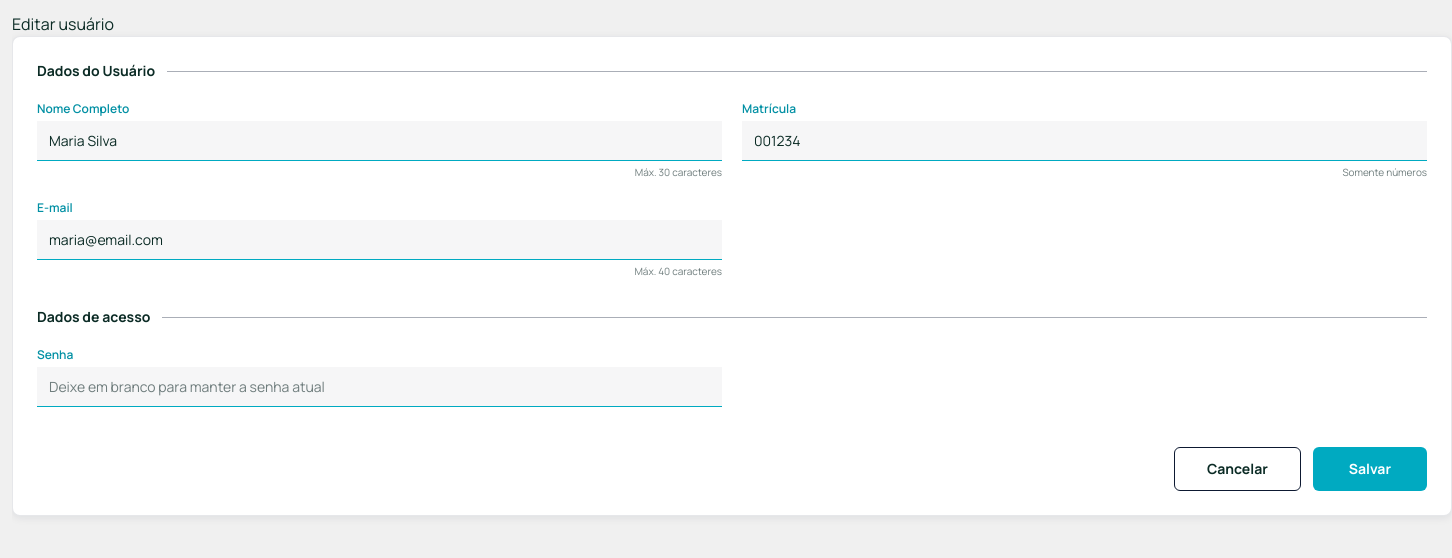
Test case: UserEditPage › shows a registration conflict returned by the API
The width and height of the screenshot is (1452, 558).
Expected: the heading "Editar usuário" is shown, x1=12 y1=13 x2=114 y2=35
Click the button "Salvar" at (1370, 469), box x1=1313 y1=447 x2=1427 y2=491
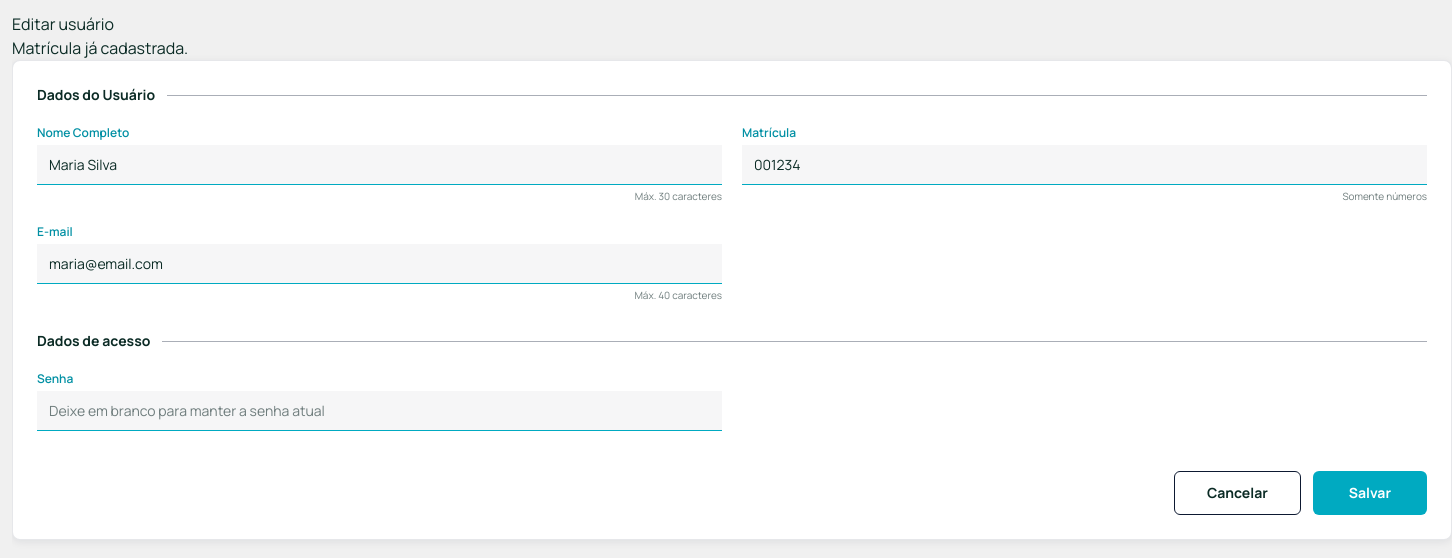
Expected: the message reads "Matrícula já cadastrada.", x1=12 y1=37 x2=188 y2=59
